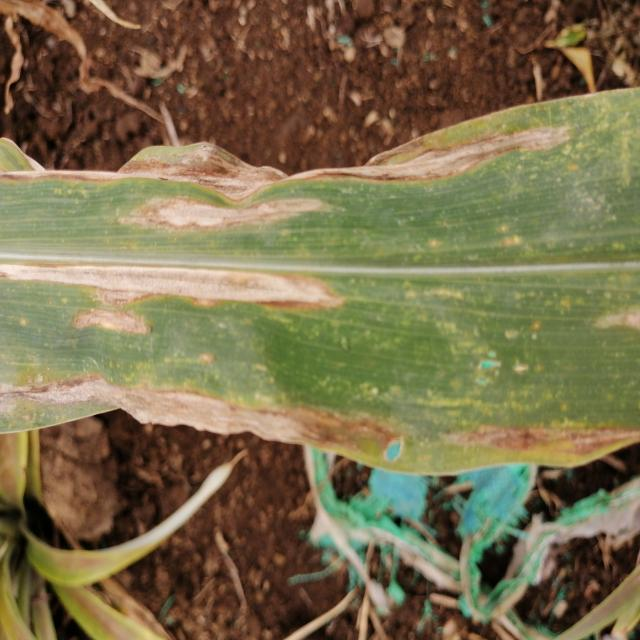Corn_Leaf_Blight: (4, 84, 640, 472)
